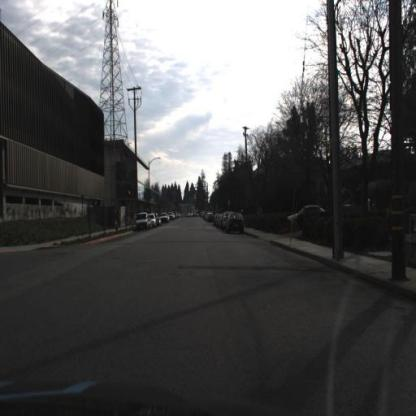car: (285, 203, 327, 231), (227, 212, 245, 236), (135, 213, 150, 234)
